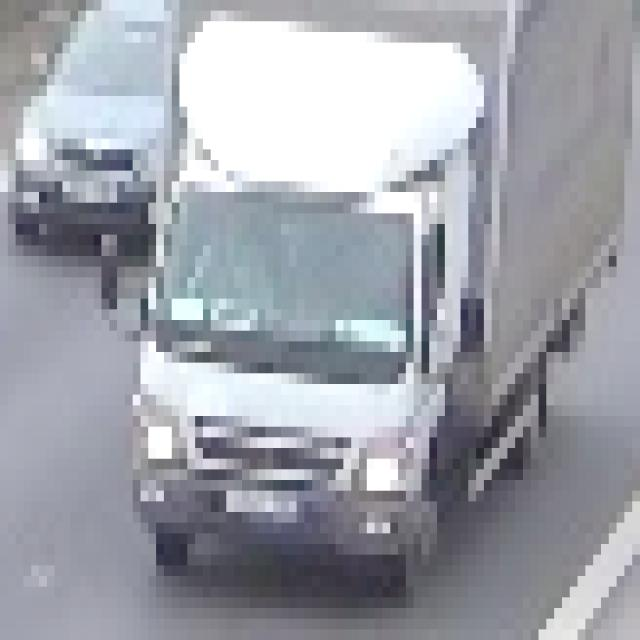truck: (95, 1, 633, 577)
